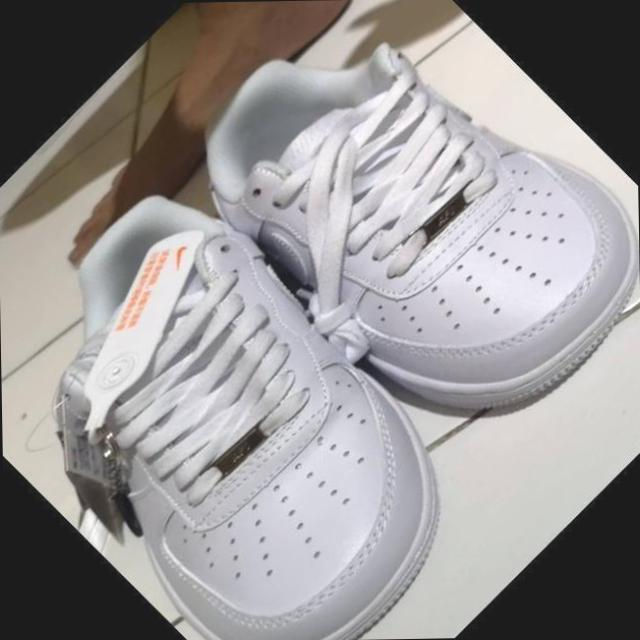nike_original_airforce: (135, 0, 640, 498), (0, 161, 505, 640)
